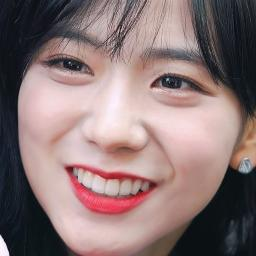face: (21, 0, 231, 256)
